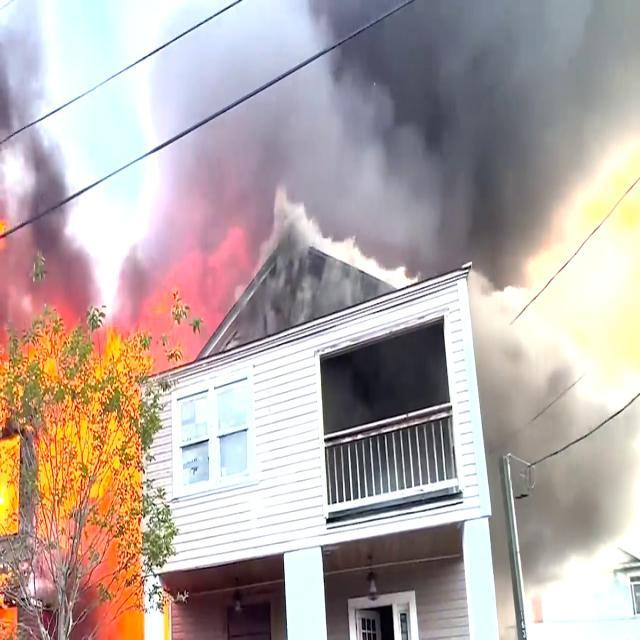Fire: (0, 305, 134, 640)
Smoke: (221, 2, 640, 256), (464, 259, 637, 552), (125, 243, 202, 319)
